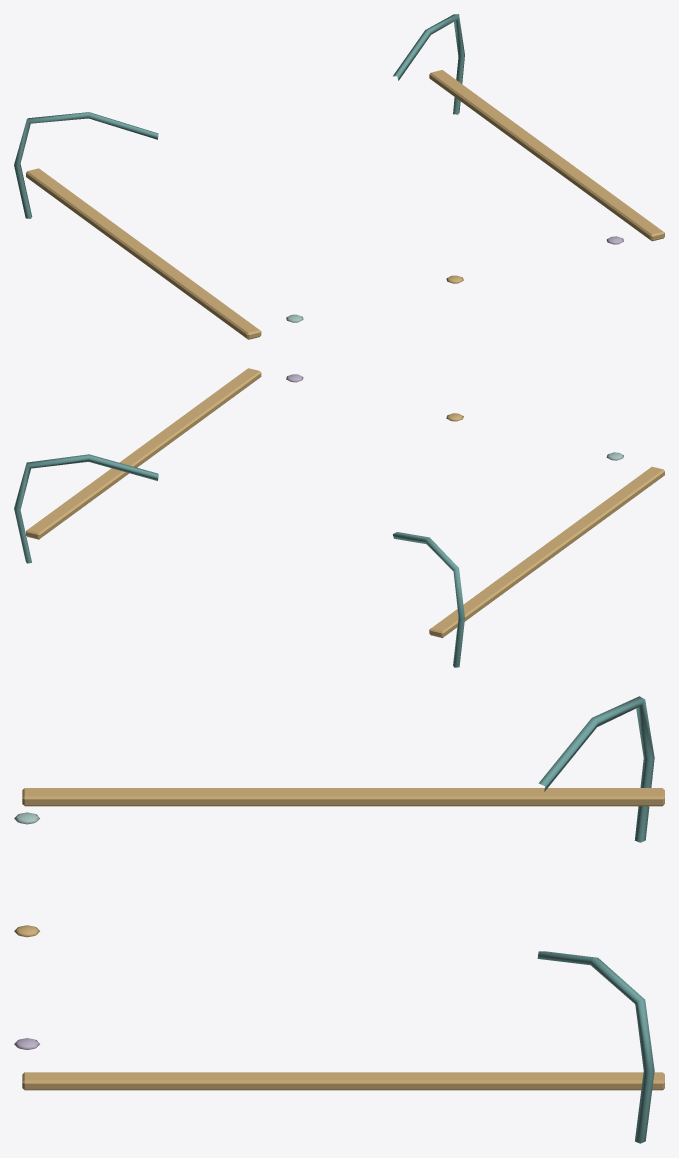
File: eq01_level_2.glb
3 views of the same model, one above another, from view 1: azimuth 30°, elevation 25°; view 2: azimuth 150°, elevation 25°; view 3: azimuth 270°, elevation 25° (orthographic). The views are drawn at different scales.
Visible parts, largest first — view 1: eq01_level_2; view 2: eq01_level_2; view 3: eq01_level_2.
Boxes of the visible parts, bbox=[...] form: eq01_level_2: bbox=[14, 14, 664, 339]; eq01_level_2: bbox=[14, 368, 664, 667]; eq01_level_2: bbox=[14, 696, 664, 1143].
Size of the model in its own units: 3.42 by 0.7689 by 2.96.
